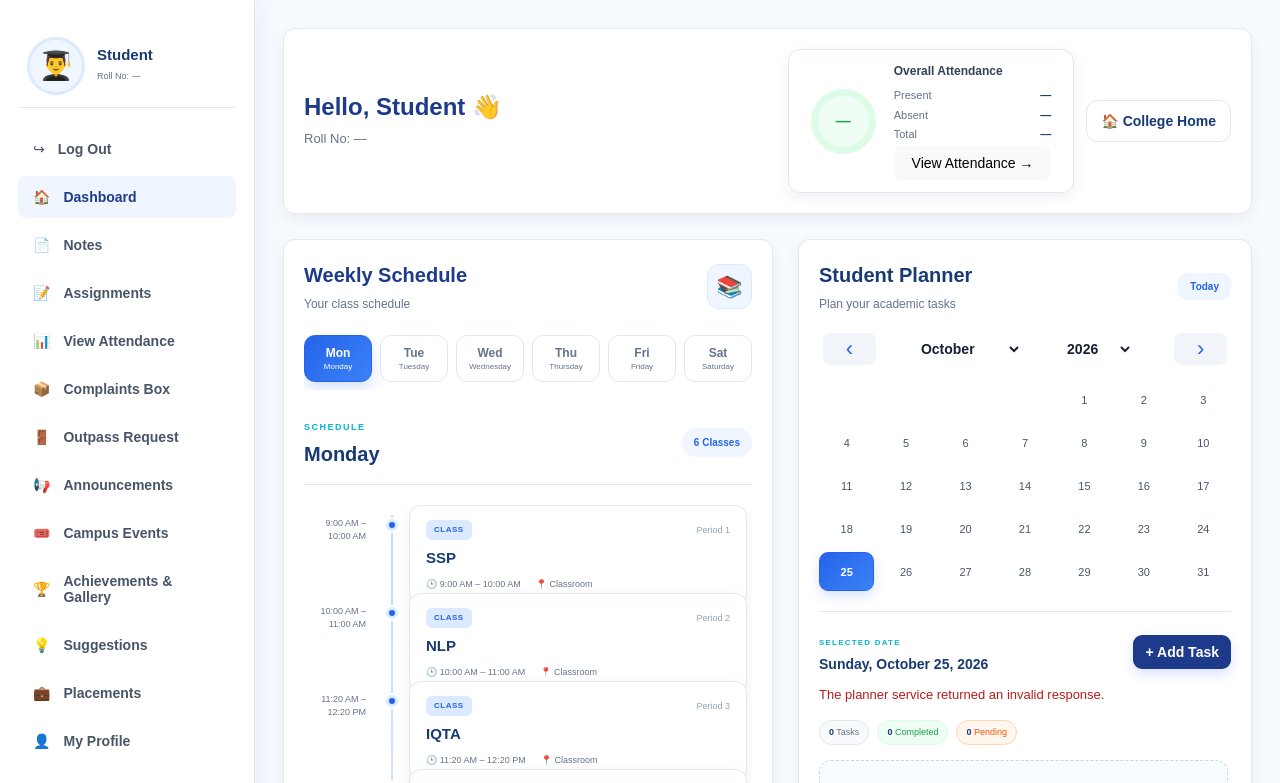
role-aware announcement flows › shows live branch-eligible placement opportunities to students
Click the button "💼 Placements" at (127, 693), box top-left (18, 672), bottom-right (236, 714)
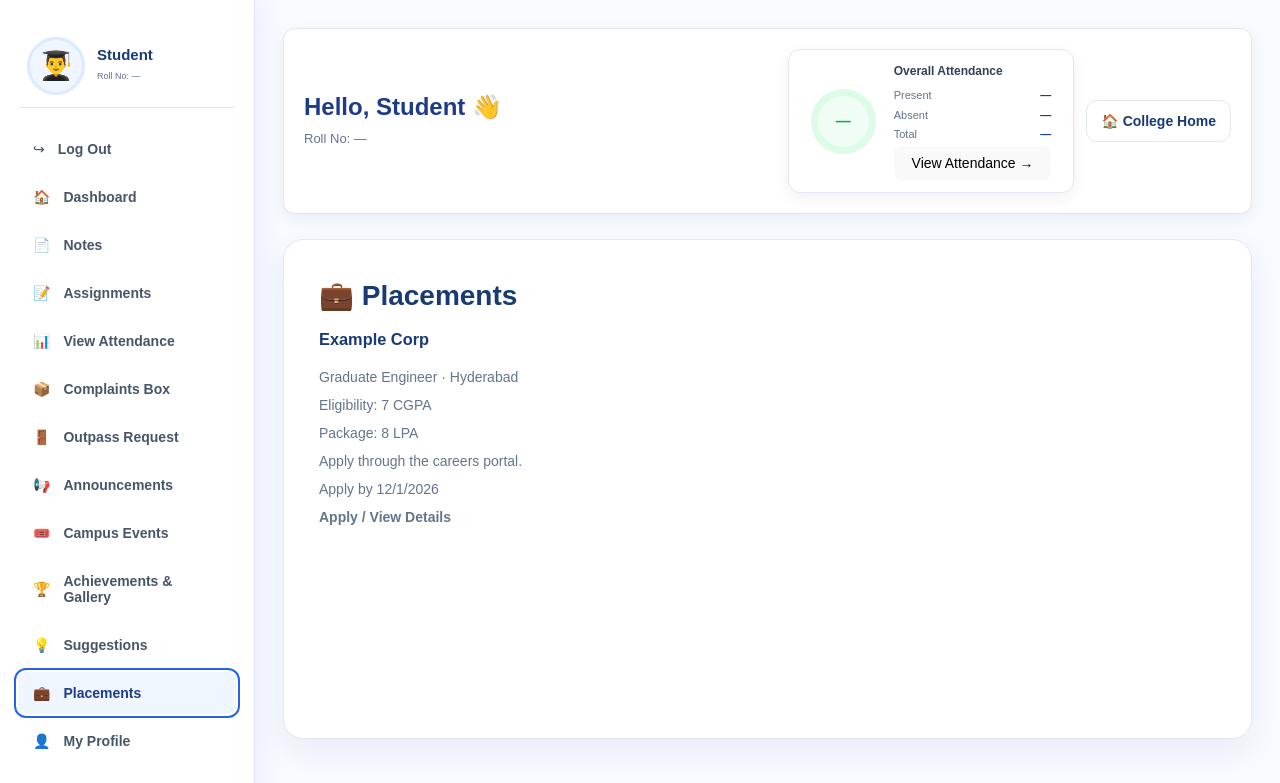
Check: the heading "Example Corp" is shown, box top-left (319, 330), bottom-right (429, 348)
